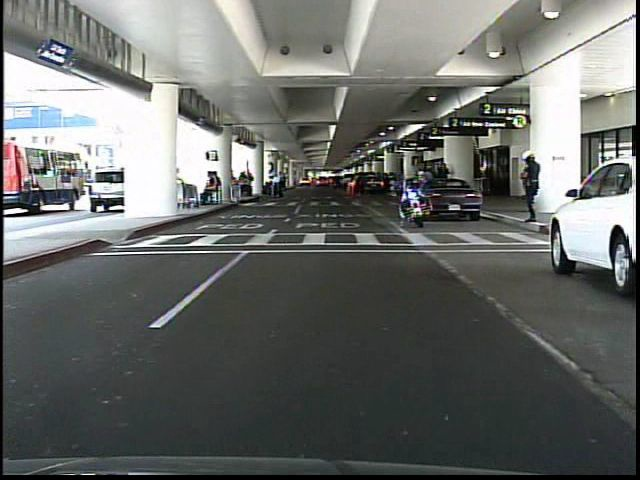person: (516, 148, 544, 225)
